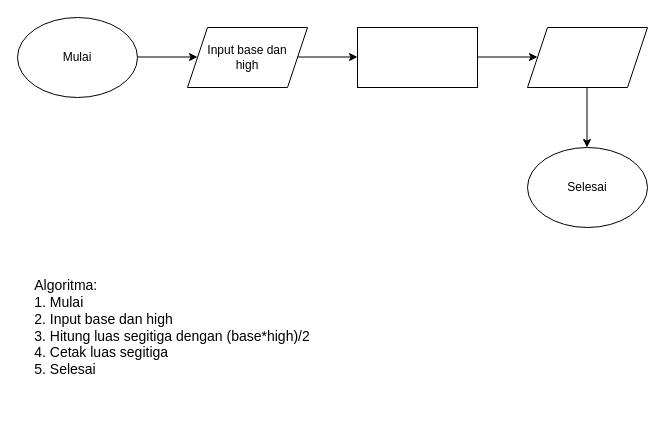
Some shapes in this 665 by 435 pixel diagram are drawn without their labels. The shapes that lost their labels are listed below. From the top down, each one's centre as x and y in pixels, then its label:
At (417,57): "Area = (base*high)/2".
At (587,57): "cetak Area".
